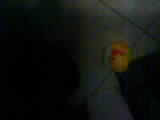duck: (96, 38, 139, 80)
